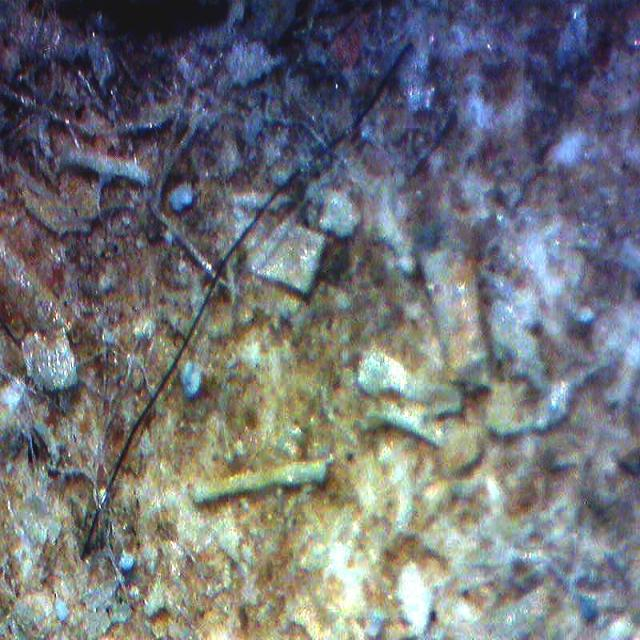microplastic: (80, 40, 416, 558)
